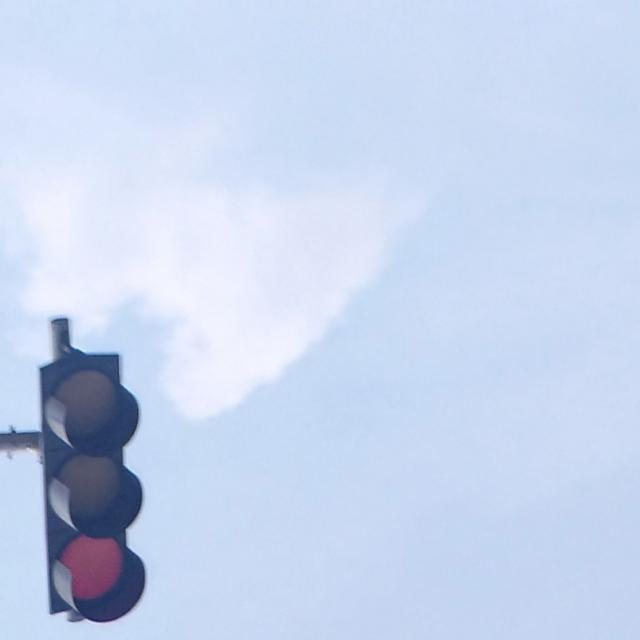red_light: (39, 350, 143, 620)
